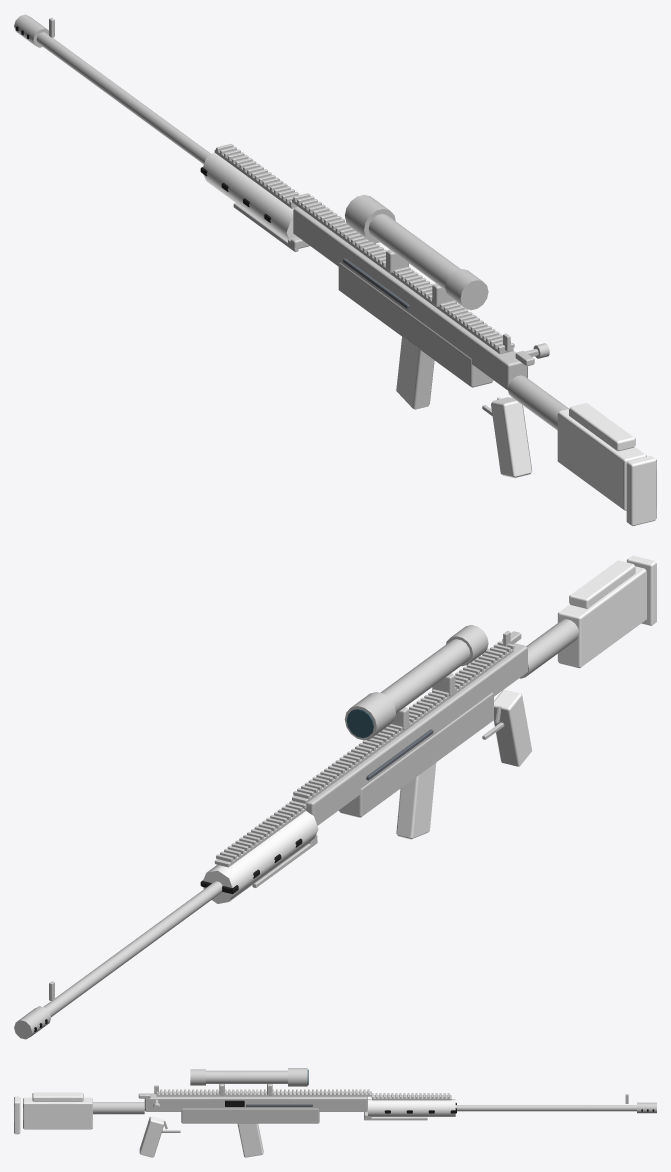
File: monolith.glb
3 renders of one model, top to bottom at view 1: azimuth 30°, elevation 25°; view 2: azimuth 150°, elevation 25°; view 3: azimuth 270°, elevation 25°, orthographic. The views are drawn at different scales.
Bounding box in the file's own units: 0.084 × 0.2414 × 1.61.
Materials: 5 (1 with a texture image).
